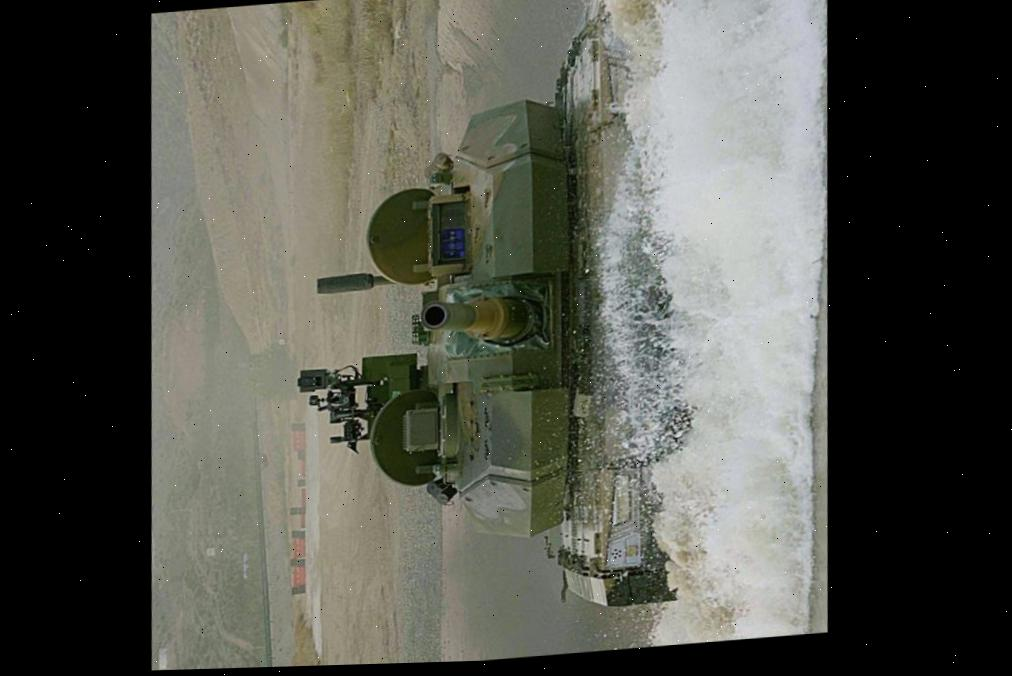tank: (261, 0, 711, 635)
